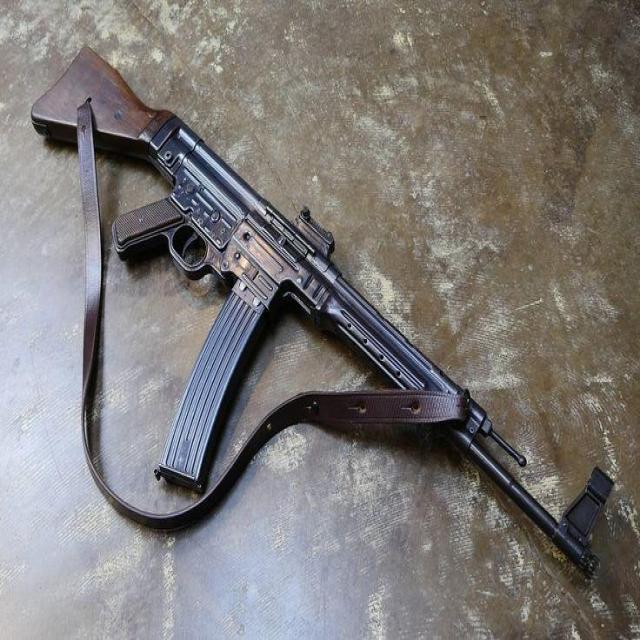rifle: (30, 40, 612, 584)
